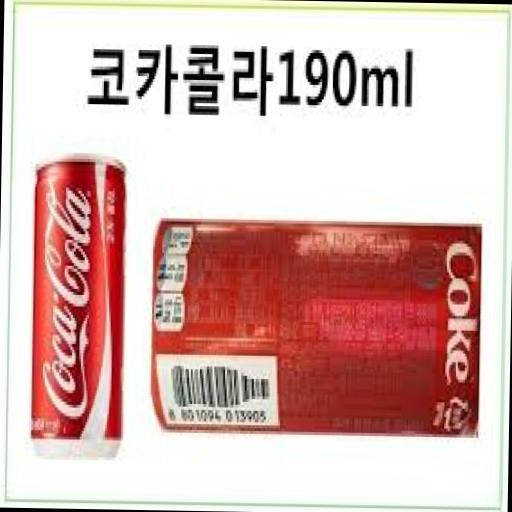Coca: (144, 199, 486, 448), (27, 150, 132, 467)
